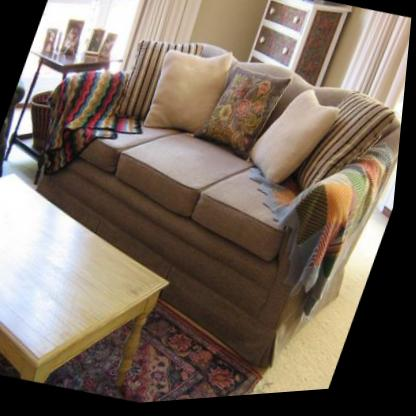Sofa: (0, 0, 414, 410)
Table: (0, 155, 202, 410), (0, 28, 118, 195)
